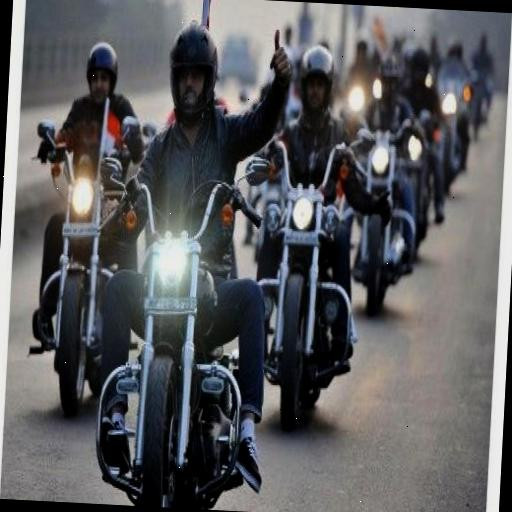helmet: (103, 4, 284, 510), (250, 22, 376, 436), (21, 32, 140, 414)
